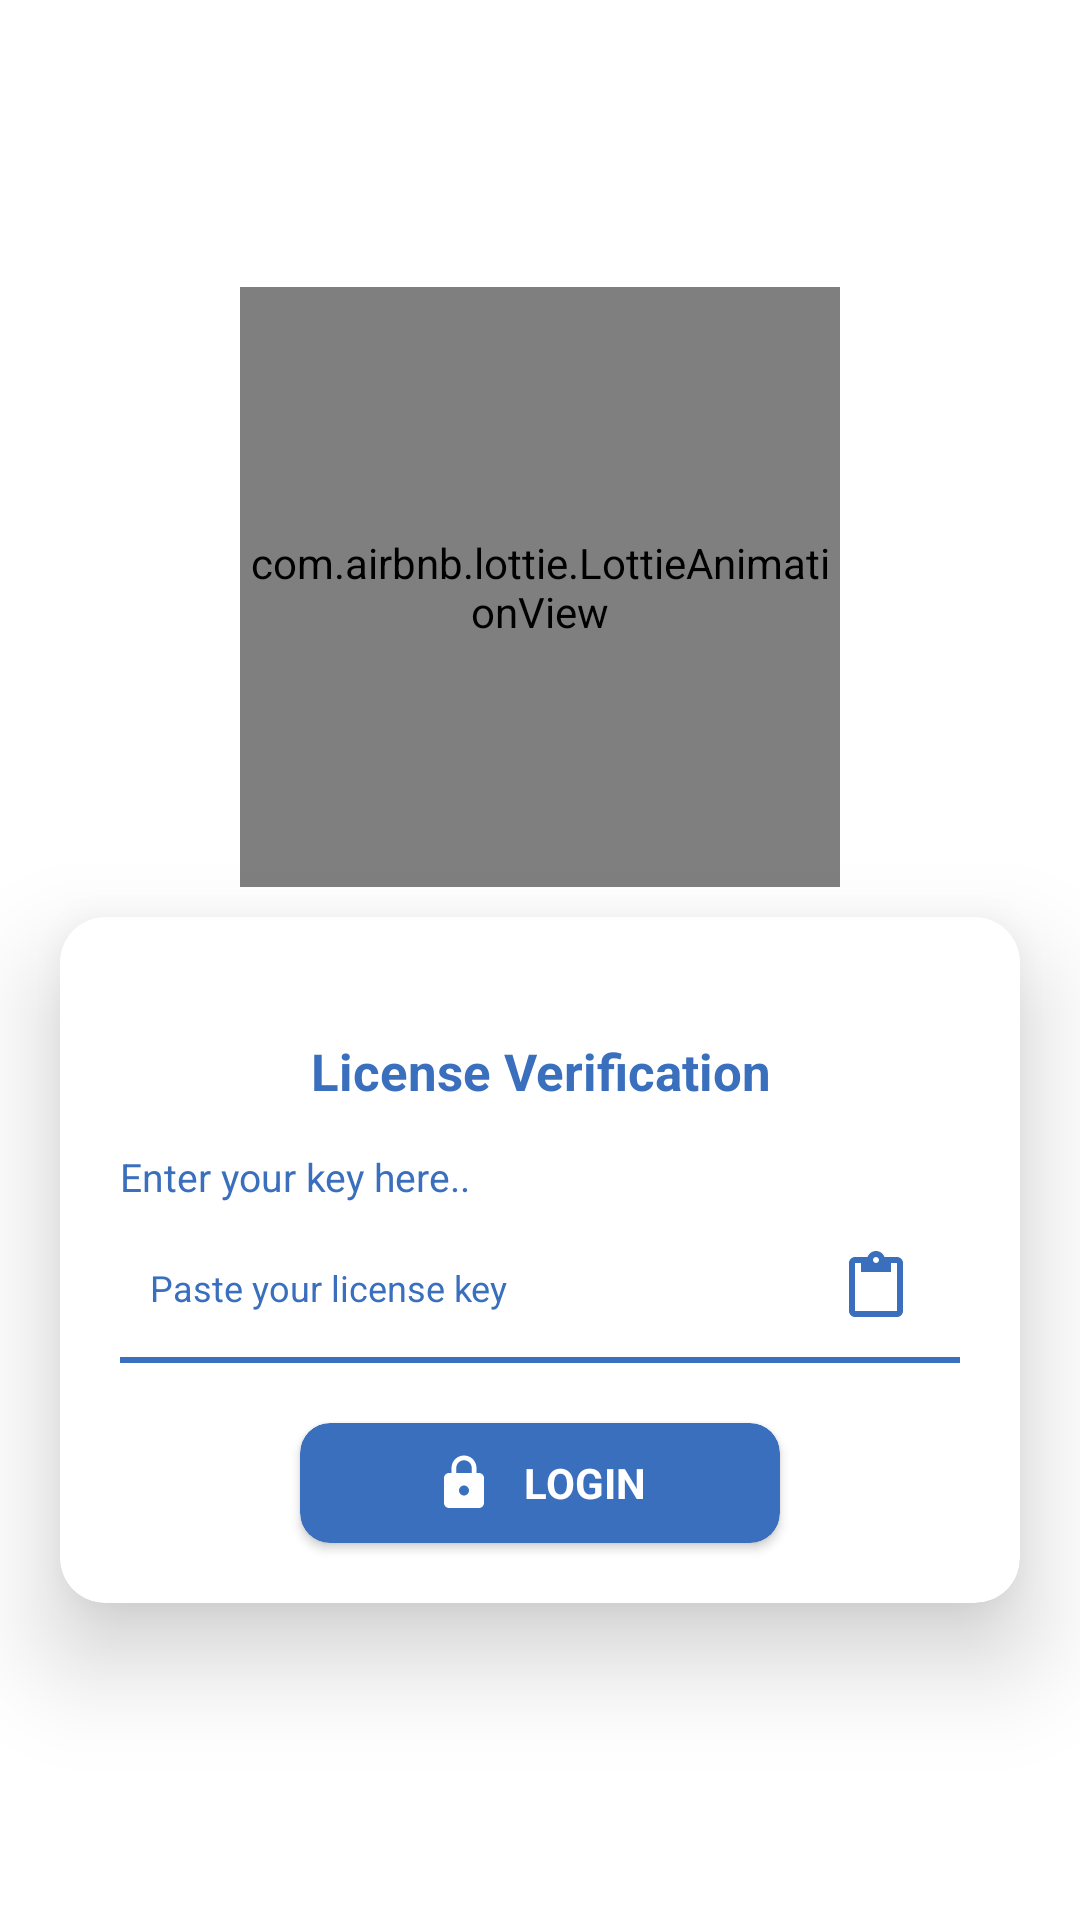

Named icons in this screenshot (1080 × 1920) and their centers, point (x, y):
lock: point (464, 1481)
